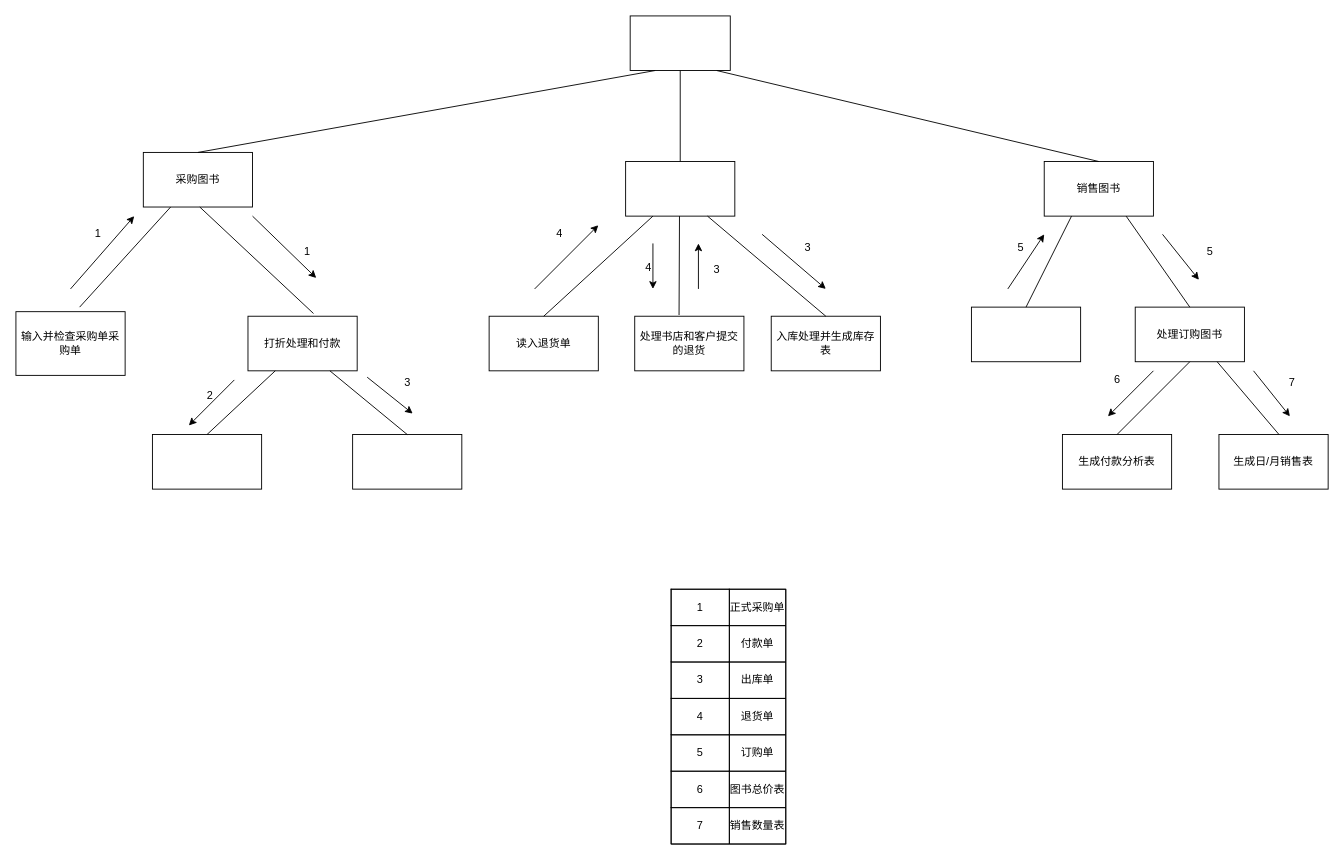
Some shapes in this 1344 by 860 pixel diagram are drawn without their labels. The box of each missing label's shape, as (x1, y1, x2, y2) in pixels:
书店管理系统: (629, 15, 730, 71)
处理退货图书: (625, 161, 735, 216)
生成库存表: (352, 434, 462, 489)
生成输出付款分析表: (152, 434, 262, 489)
读入客户和书店订购单: (971, 306, 1081, 362)
